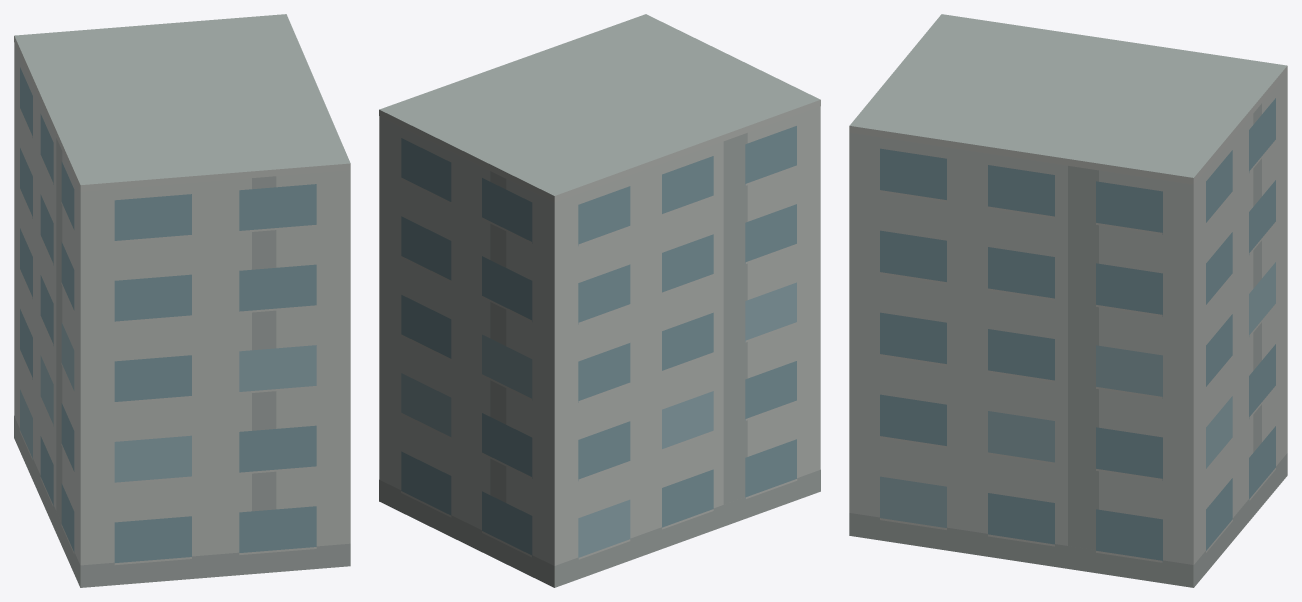
File: survey-upis-33046018.glb
3 views of the same model, side by side, from view 1: azimuth 30°, elevation 25°; view 2: azimuth 150°, elevation 25°; view 3: azimuth 270°, elevation 25° (orthographic). The views are drawn at different scales.
Parts seen in each view (by area): view 1: survey-upis-33046018.tmp; view 2: survey-upis-33046018.tmp; view 3: survey-upis-33046018.tmp.
Part boxes in pixels (box(x1,y1,x2,y2)): survey-upis-33046018.tmp: box(14, 14, 350, 587); survey-upis-33046018.tmp: box(379, 14, 820, 587); survey-upis-33046018.tmp: box(849, 14, 1287, 587).
Size of the model in its own units: 12.43 by 14.49 by 14.04.
